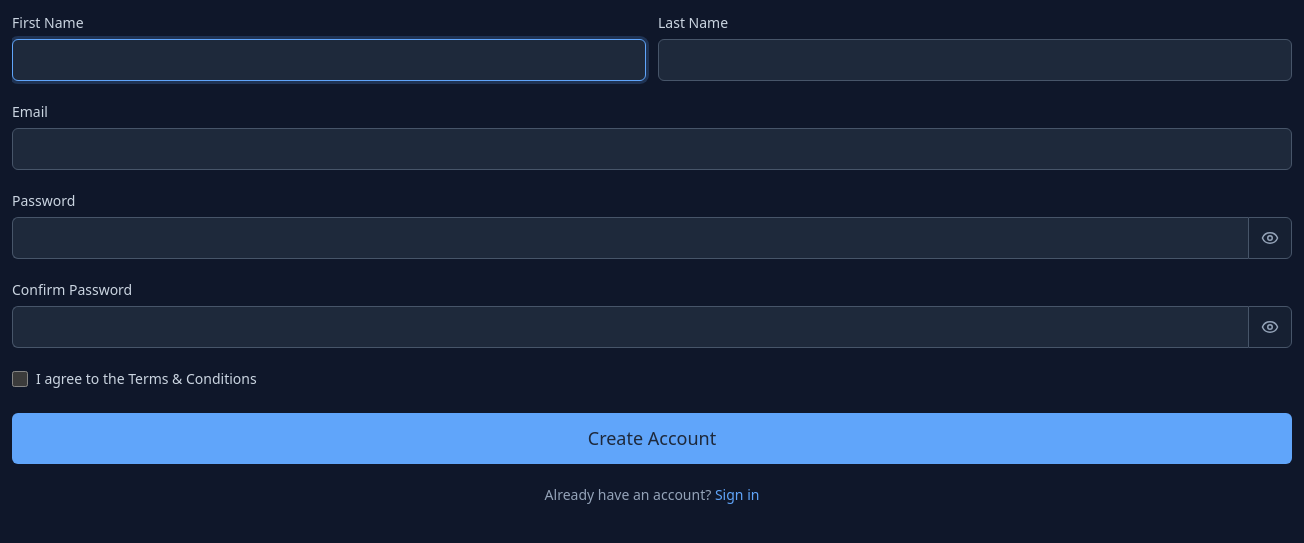
Test: RegisterForm › validation › shows terms error when checkbox unchecked
This screenshot has width=1304, height=543.
In the field labelled "Email": (652, 149) [12,128,1292,170], type "test@example.com"
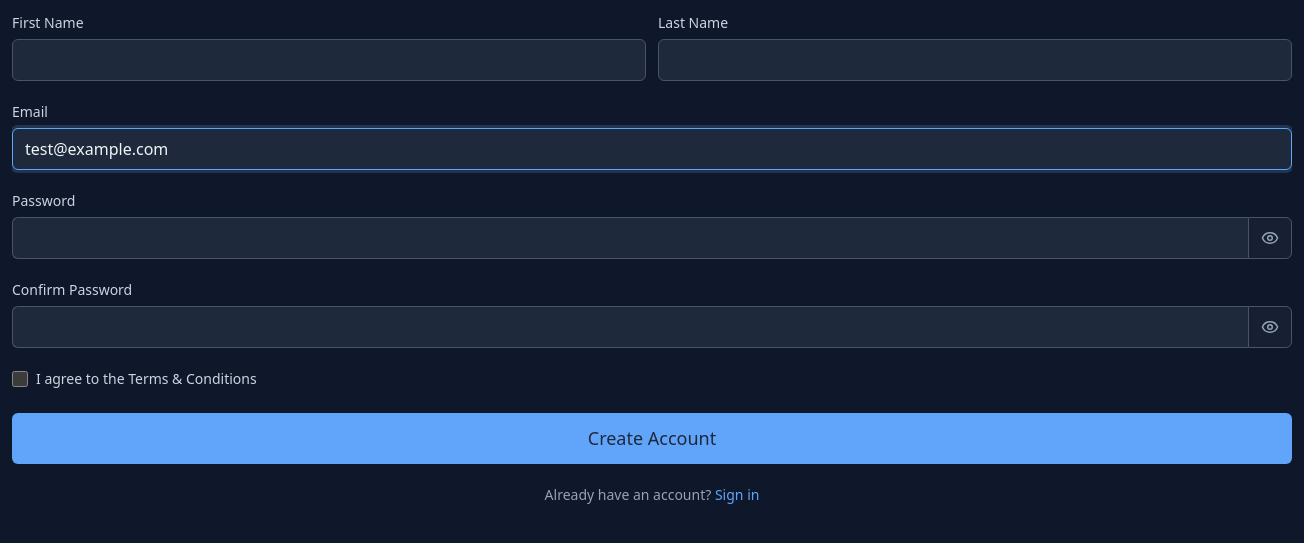
In the password field labelled "Password": (630, 238) [12,217,1248,259], type "Password1"
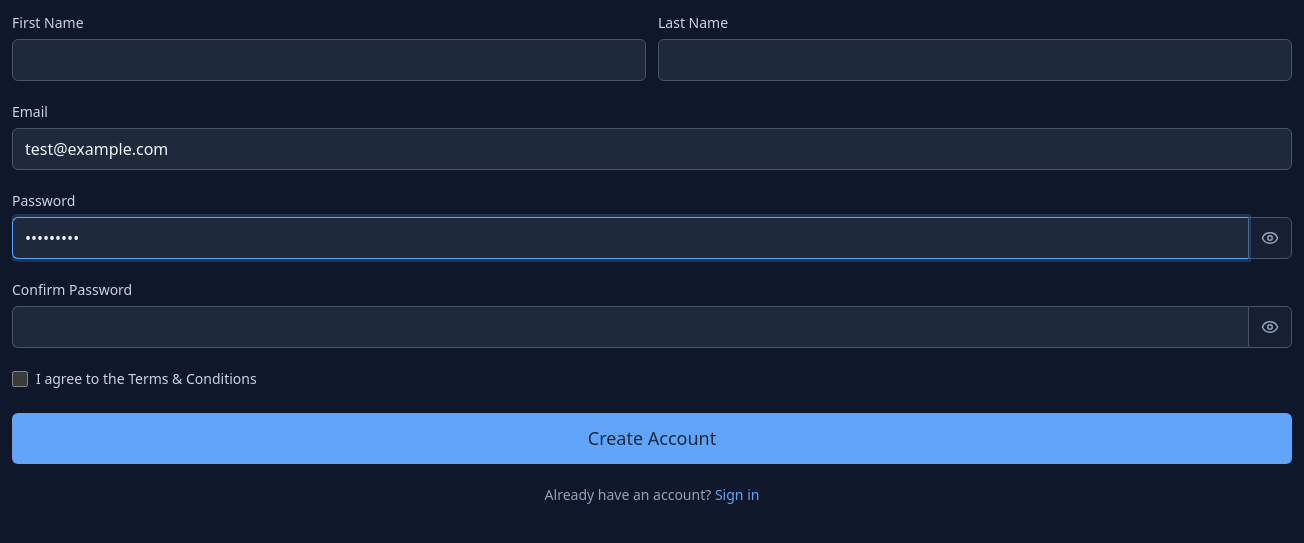
In the password field labelled "Confirm Password": (630, 327) [12,306,1248,348], type "Password1"
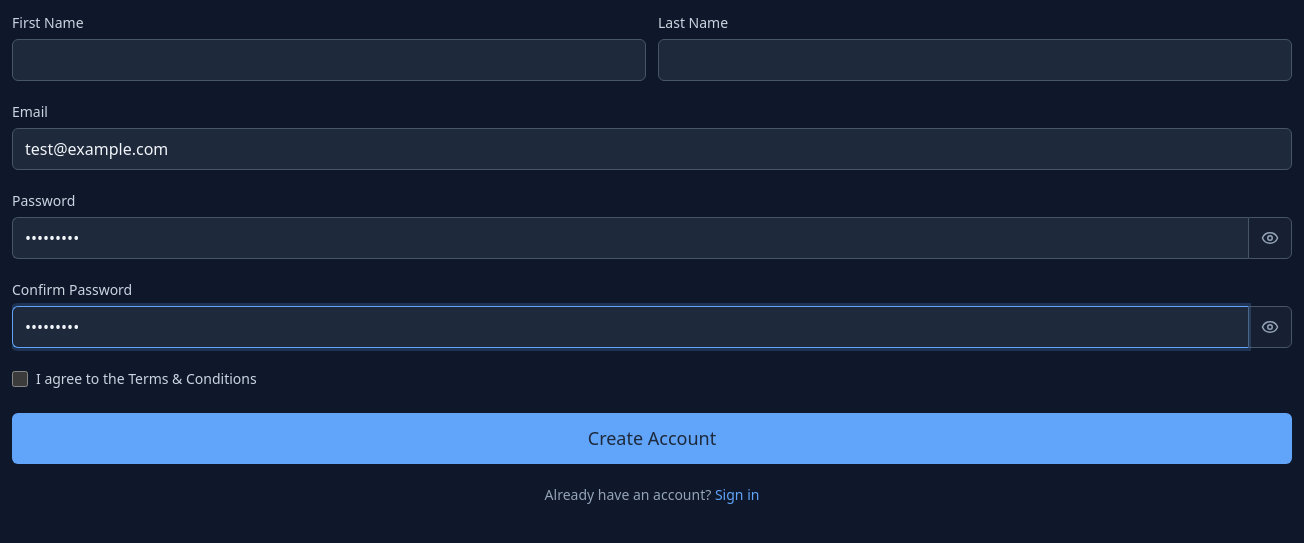
Click the button "Create Account": (652, 438) [12,413,1292,464]
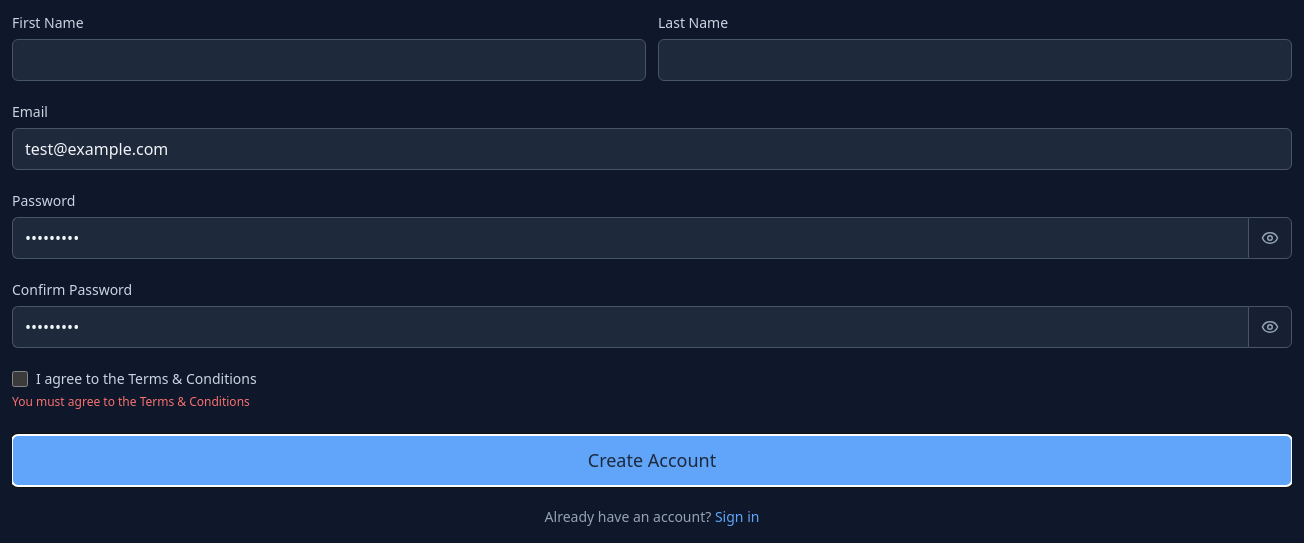
Result: the text "You must agree to the Terms & Conditions" is shown at [12,393,250,410]
